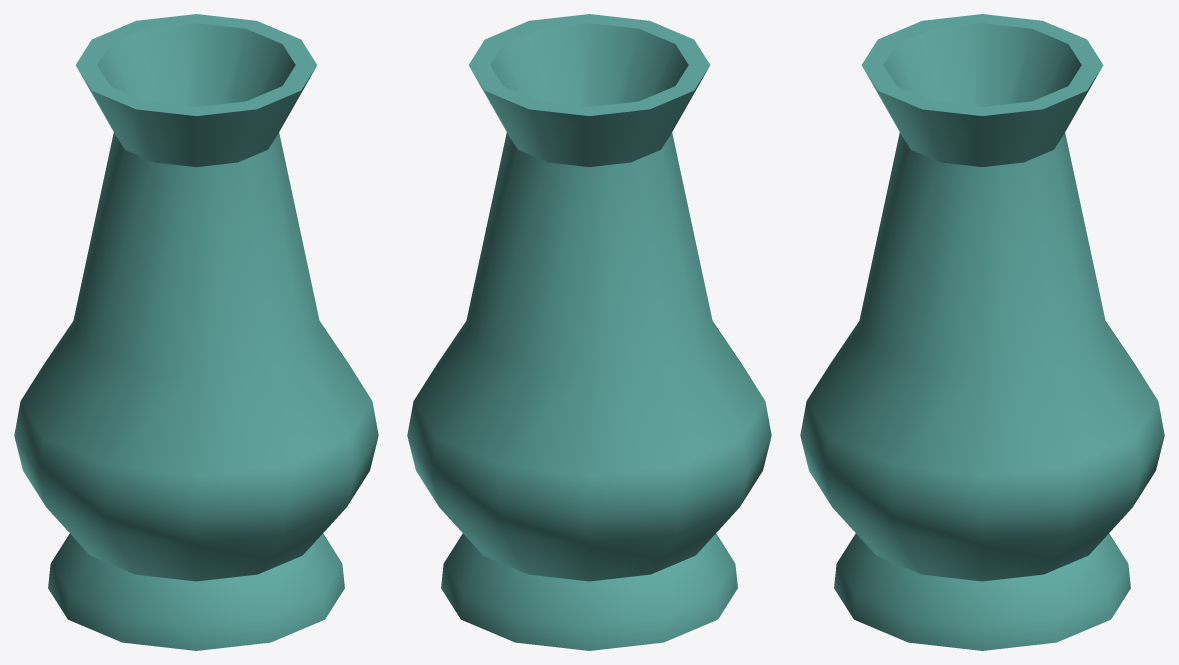
File: Vaso_1.fbx
The picture shows the model from 3 angles, left to right: view 1: azimuth 30°, elevation 25°; view 2: azimuth 150°, elevation 25°; view 3: azimuth 270°, elevation 25°; orthographic projection.
Visible parts, largest first — view 1: Vaso_1; view 2: Vaso_1; view 3: Vaso_1.
Part boxes in pixels (x1,y1,x2,y2): Vaso_1: (14, 14, 378, 650); Vaso_1: (407, 14, 771, 650); Vaso_1: (800, 14, 1164, 650).
Size of the model in its own units: 0.3223 by 0.5105 by 0.3223.
